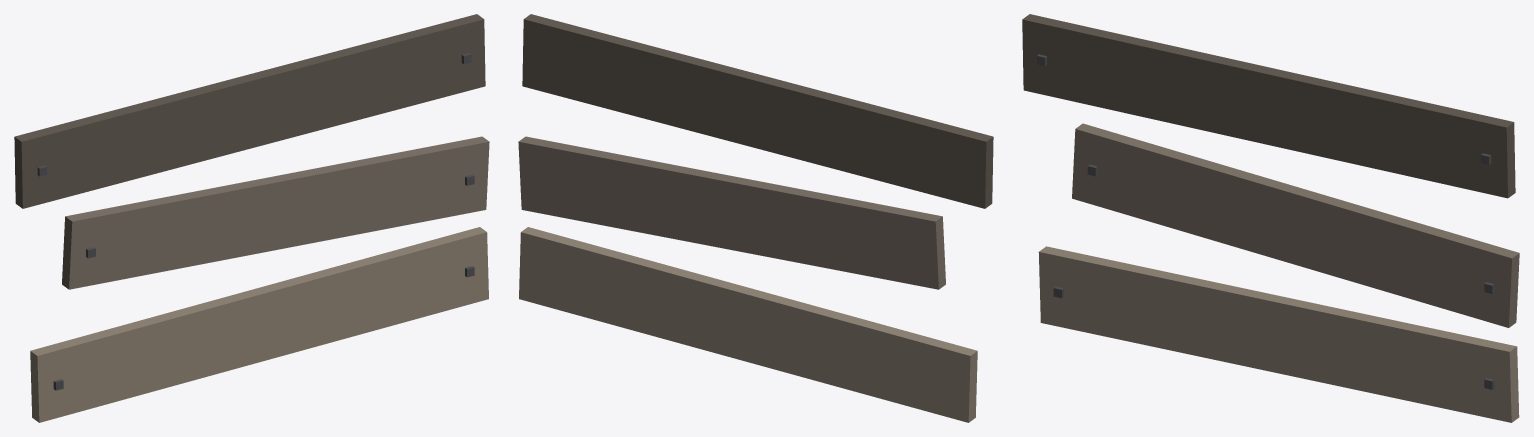
File: patch_boards.glb
3 views of the same model, side by side, from view 1: azimuth 30°, elevation 25°; view 2: azimuth 150°, elevation 25°; view 3: azimuth 330°, elevation 25° (orthographic). The views are drawn at different scales.
Visible parts, largest first — view 1: patch_boards; view 2: patch_boards; view 3: patch_boards.
Part boxes in pixels (x1,y1,x2,y2): patch_boards: [14, 14, 489, 422]; patch_boards: [518, 14, 993, 422]; patch_boards: [1022, 14, 1519, 422].
Bounding box in the file's own units: 1.46 × 0.88 × 0.05.
